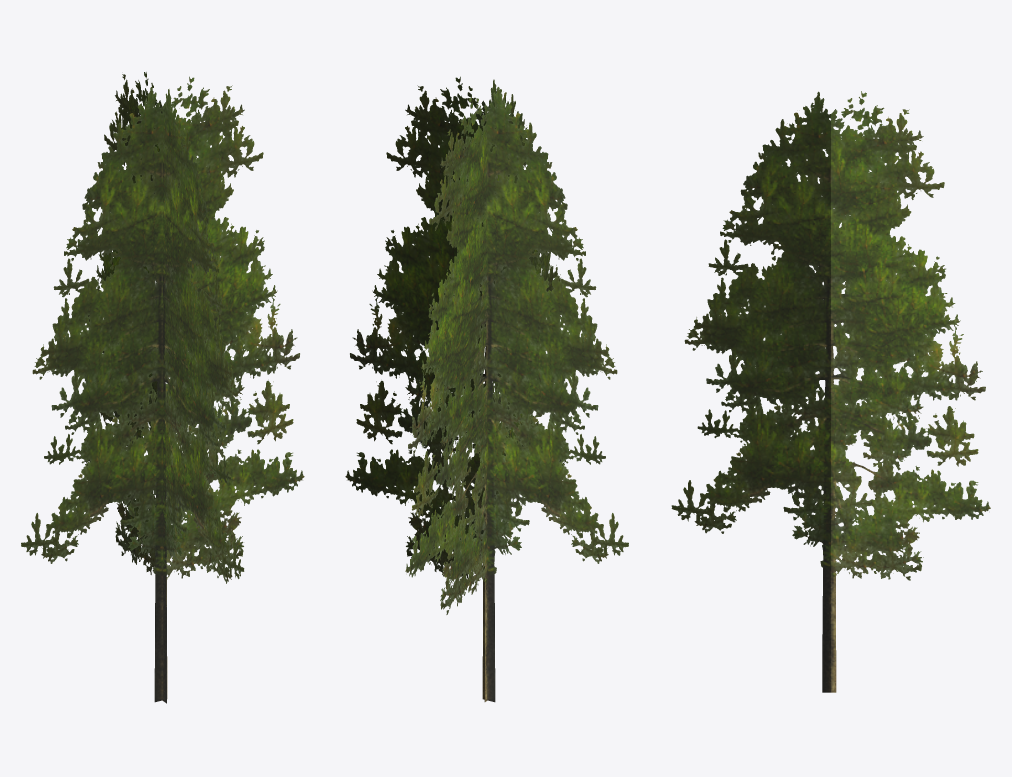
File: California_Incense_Cedar_Fan_0.obj
3 renders of one model, left to right at view 1: azimuth 30°, elevation 25°; view 2: azimuth 150°, elevation 25°; view 3: azimuth 270°, elevation 25°, orthographic. The views are drawn at different scales.
Visible parts, largest first — view 1: CreateFan; view 2: CreateFan; view 3: CreateFan.
Part boxes in pixels (x1,y1,x2,y2): CreateFan: [21, 72, 304, 703]; CreateFan: [345, 76, 628, 702]; CreateFan: [671, 91, 990, 692].
Bounding box in the file's own units: 12.43 × 25 × 12.43.
1 material, 1 textured.
